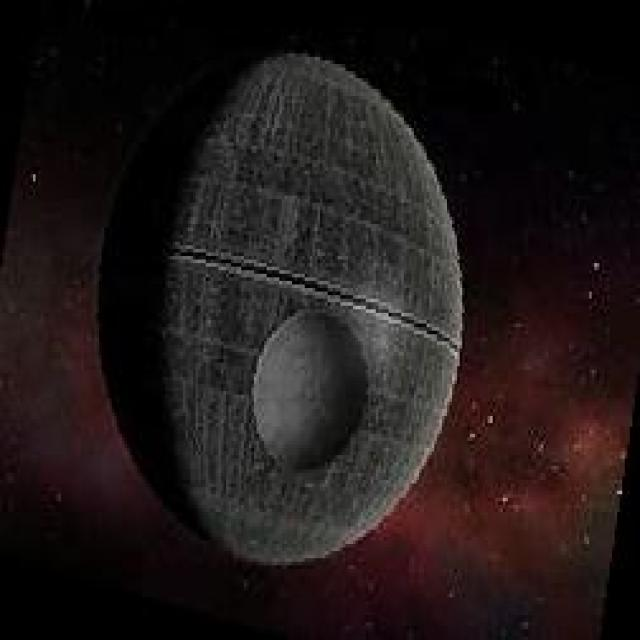Death Star: (91, 44, 465, 565)
